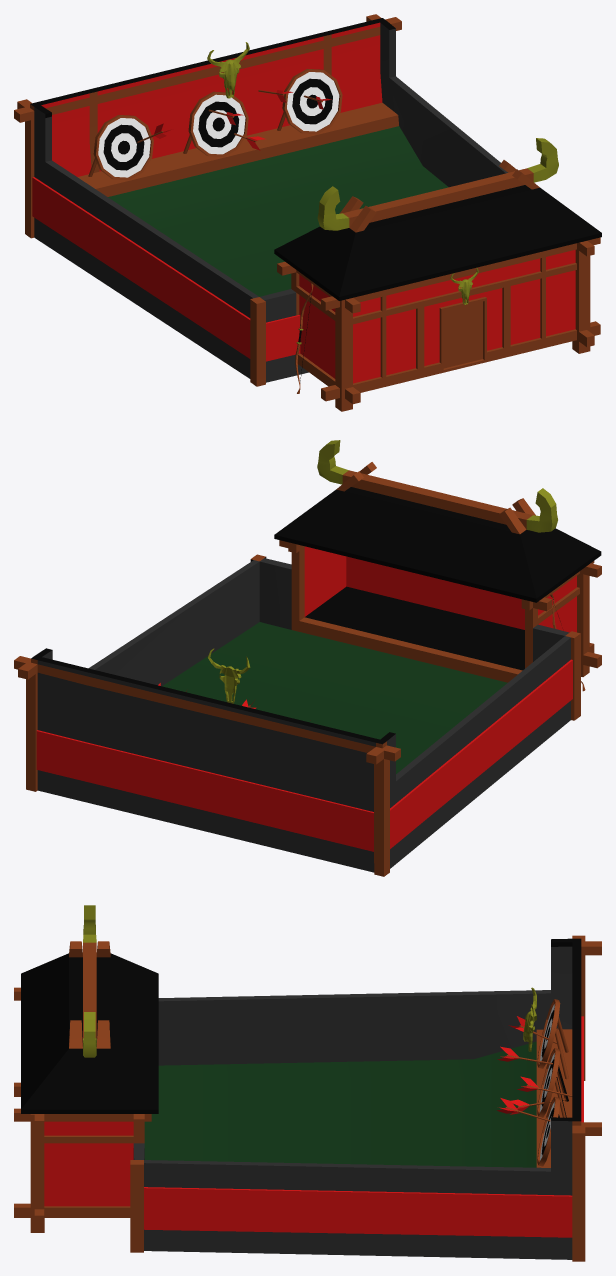
File: archer.FBX
3 renders of one model, top to bottom at view 1: azimuth 30°, elevation 25°; view 2: azimuth 150°, elevation 25°; view 3: azimuth 270°, elevation 25°, orthographic. The views are drawn at different scales.
Parts seen in each view (by area): view 1: archer; view 2: archer; view 3: archer.
Boxes of the visible parts, <box> form: archer: <box>14,14,601,411</box>; archer: <box>14,440,601,876</box>; archer: <box>14,905,601,1261</box>.
Size of the model in its own units: 65.23 by 32.33 by 81.97.
